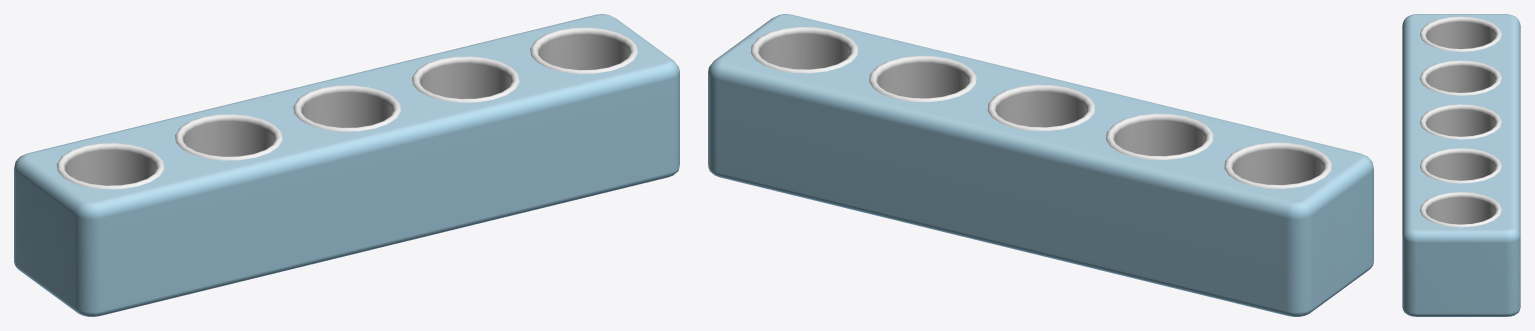
File: Slot.dae
The picture shows the model from 3 angles, left to right: view 1: azimuth 30°, elevation 25°; view 2: azimuth 150°, elevation 25°; view 3: azimuth 270°, elevation 25°; orthographic projection. The views are drawn at different scales.
Visible parts, largest first — view 1: Slot; view 2: Slot; view 3: Slot.
Part boxes in pixels (bbox=[...]): Slot: bbox=[14, 14, 679, 316]; Slot: bbox=[708, 14, 1373, 316]; Slot: bbox=[1402, 14, 1520, 316].
Bounding box in the file's own units: 3.72 × 0.6738 × 0.8339.
